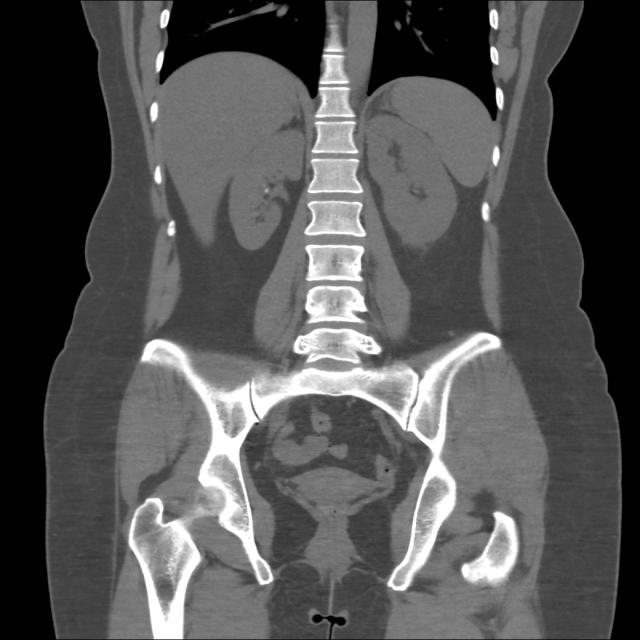kidneystone: (263, 178, 274, 194)
